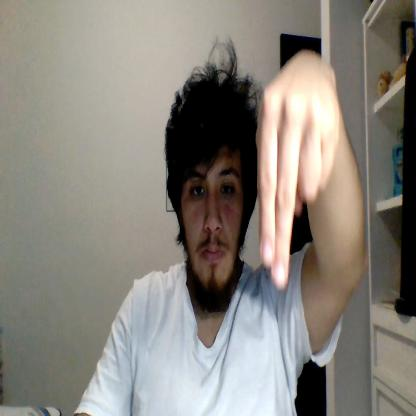N: (258, 50, 339, 289)
